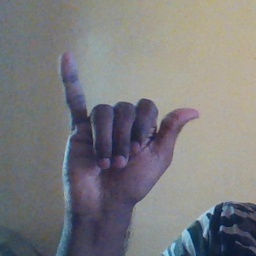J: (51, 49, 199, 211)
